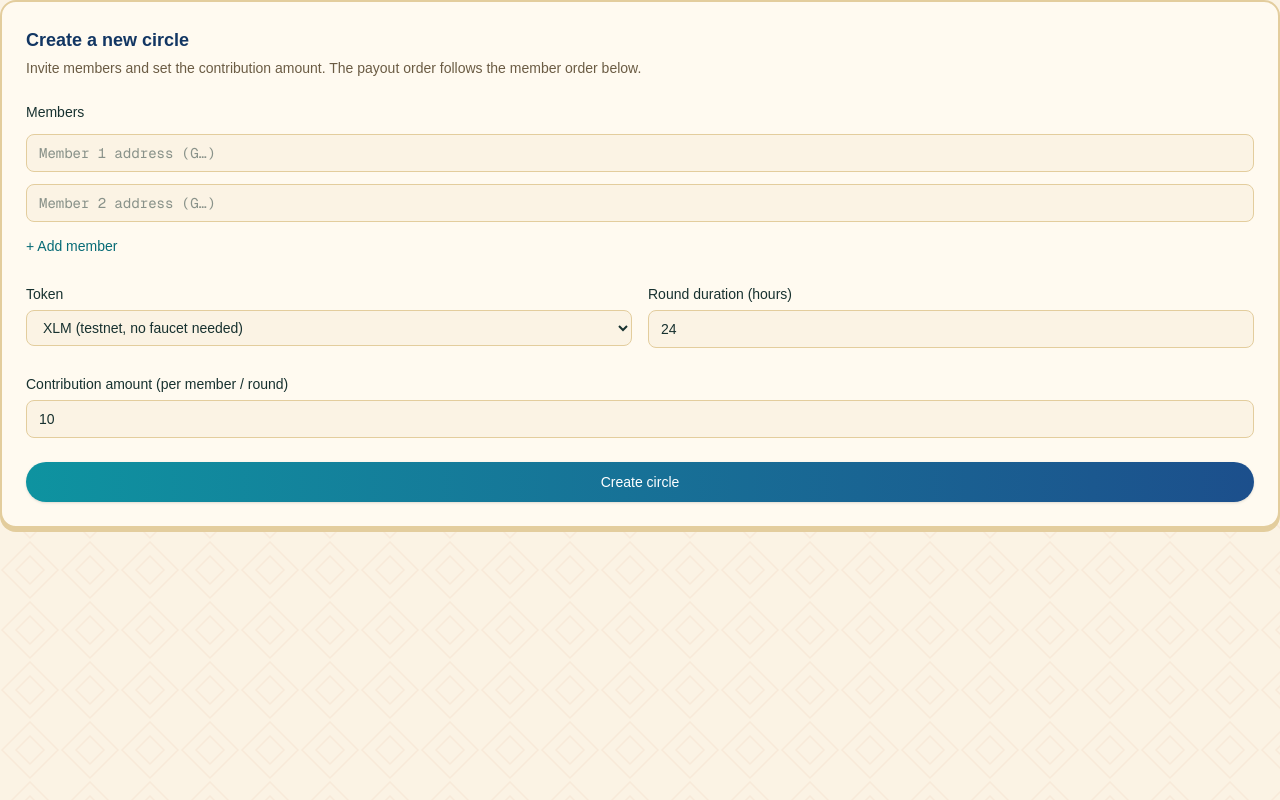
CreateCircleForm › requires every member address
Type "GAMYNYJR2UILL4GXGNPUSFQBMKDBXV2EVLHOIYFH34FTORBY7ULTJHIU" into the field with placeholder "Member 1 address (G…)" at (640, 153), box [26,134,1254,172]
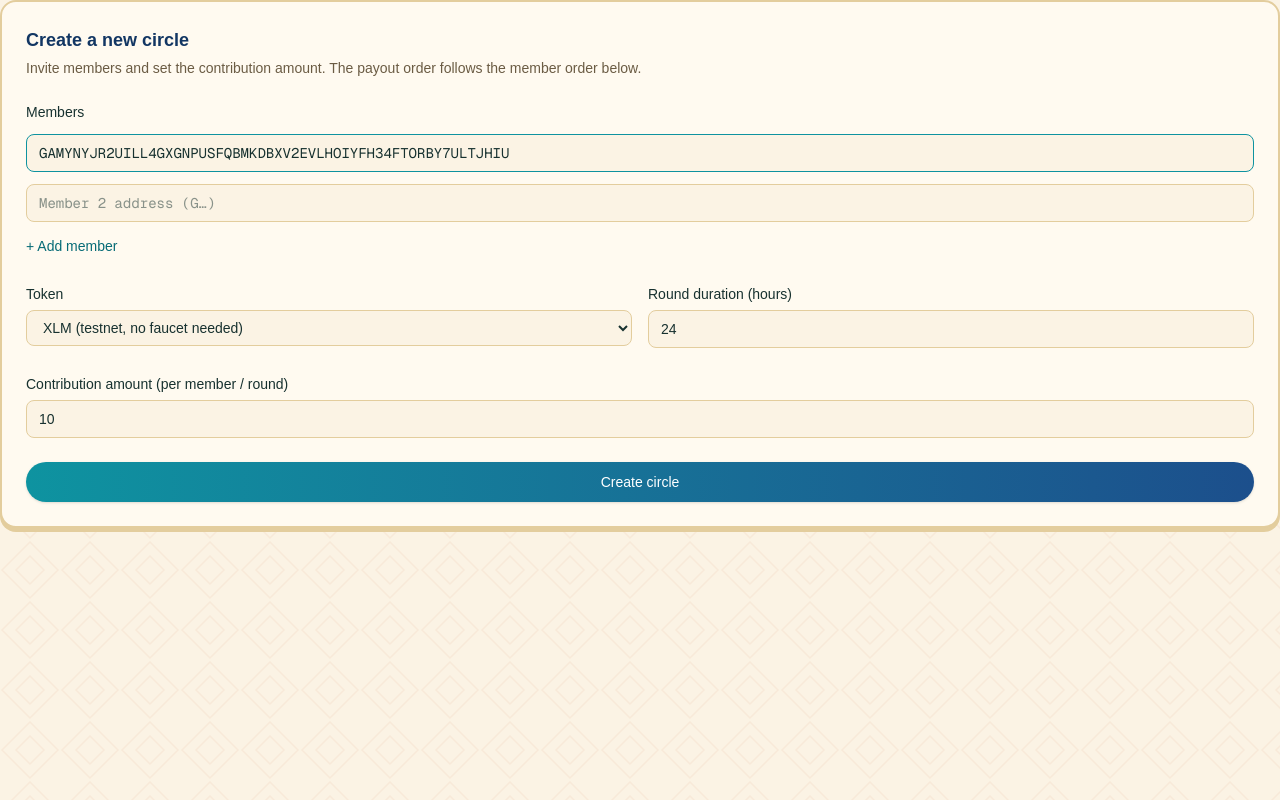
Click the button "Create circle" at (640, 482), box [26,462,1254,502]
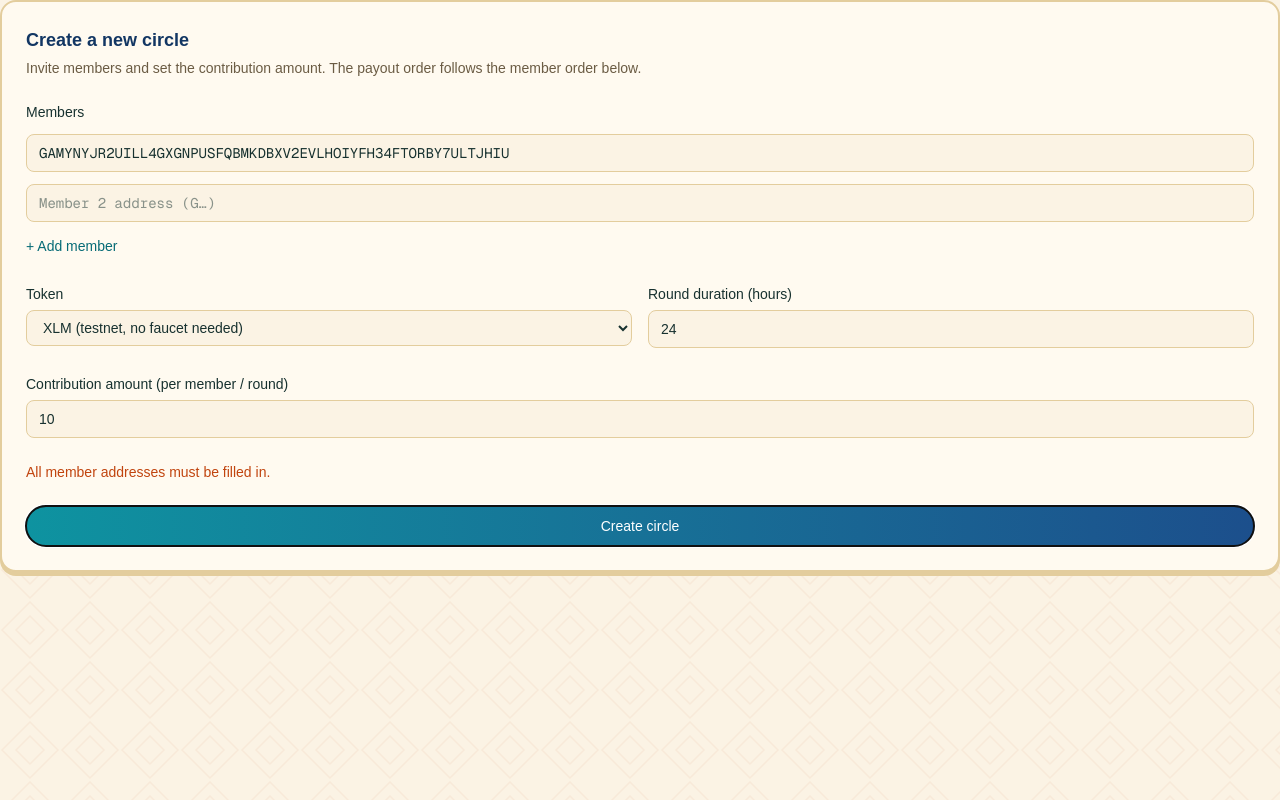
Expected: the text "All member addresses must be filled in." is shown, [26,464,270,480]
